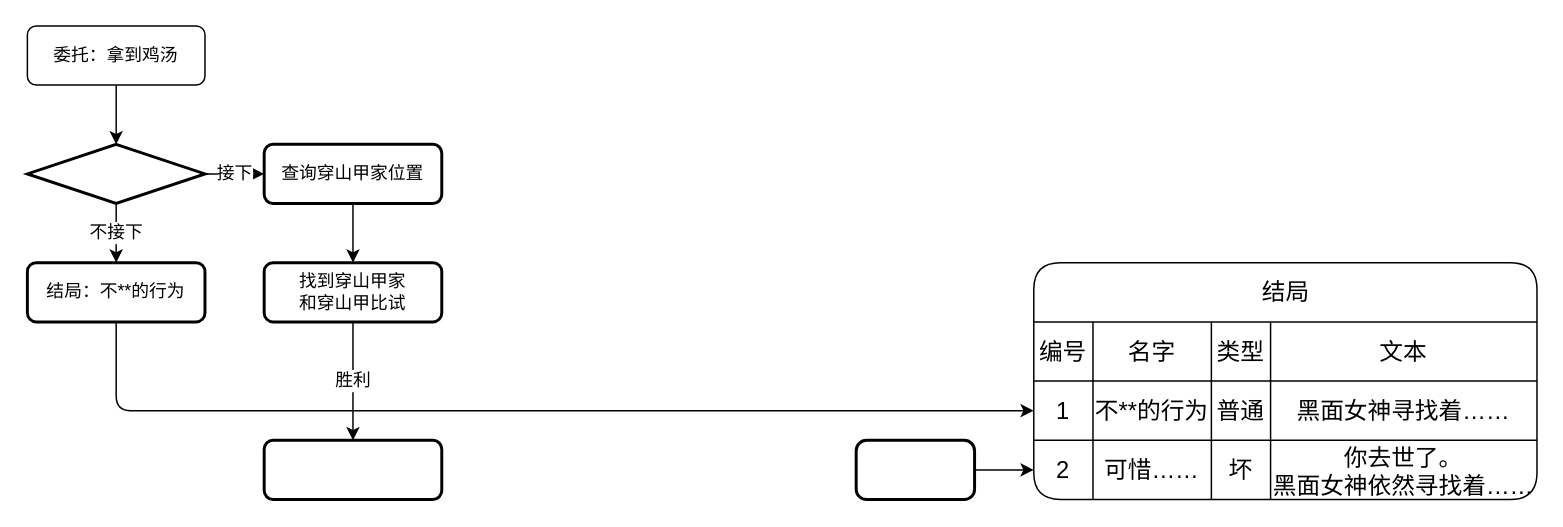
This 1563x527 diagram has some shape labels left out. The shapes that lost their labels are listed below. From the top down, each one's centre as x and y in pixels, then its label:
At (x=115, y=173): "是否接下？".
At (x=352, y=469): "被黑面女神选中".
At (x=914, y=469): "任意阶段逝世".
